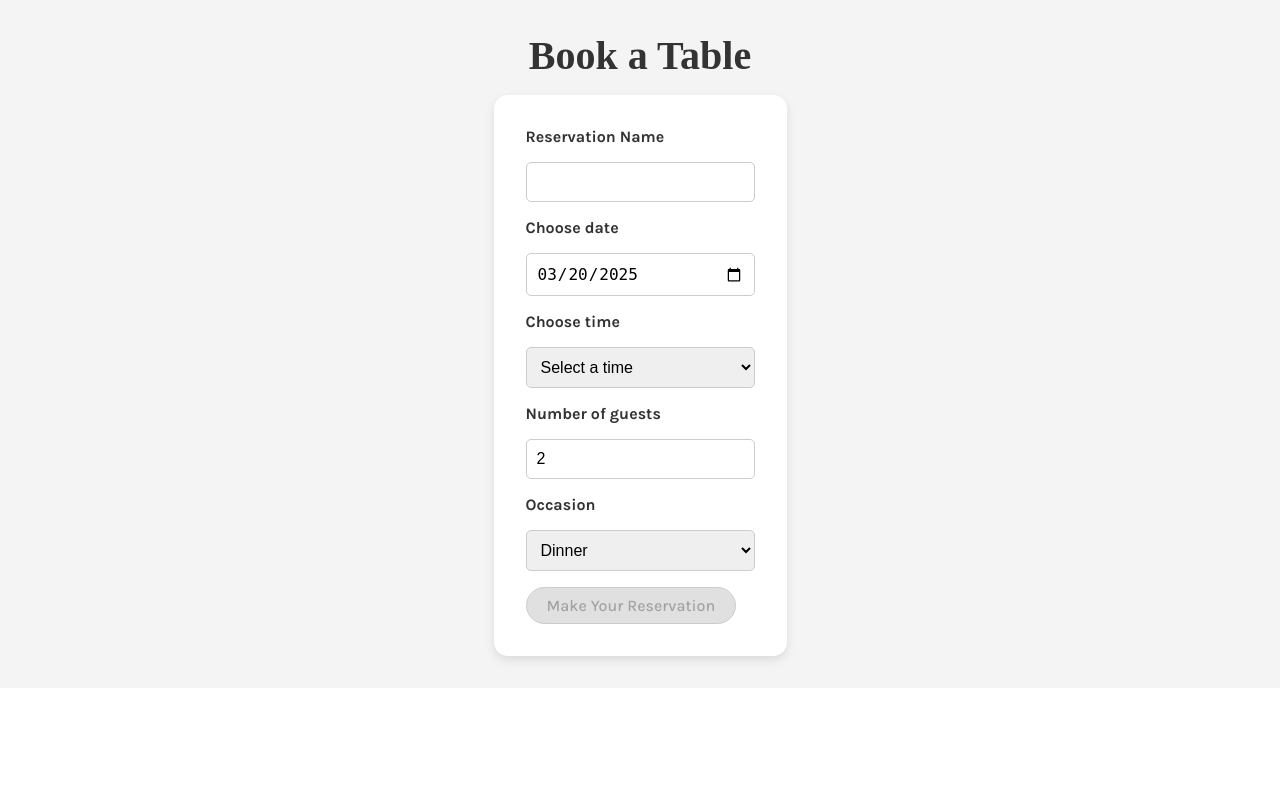
Form validation with Yup › affiche 'Your name is too short' si le nom est trop court
The image size is (1280, 800).
Entrez un nom trop court
Step 1. Type "d" into the field labelled "Reservation Name" → (640, 182), box [526, 162, 754, 202]
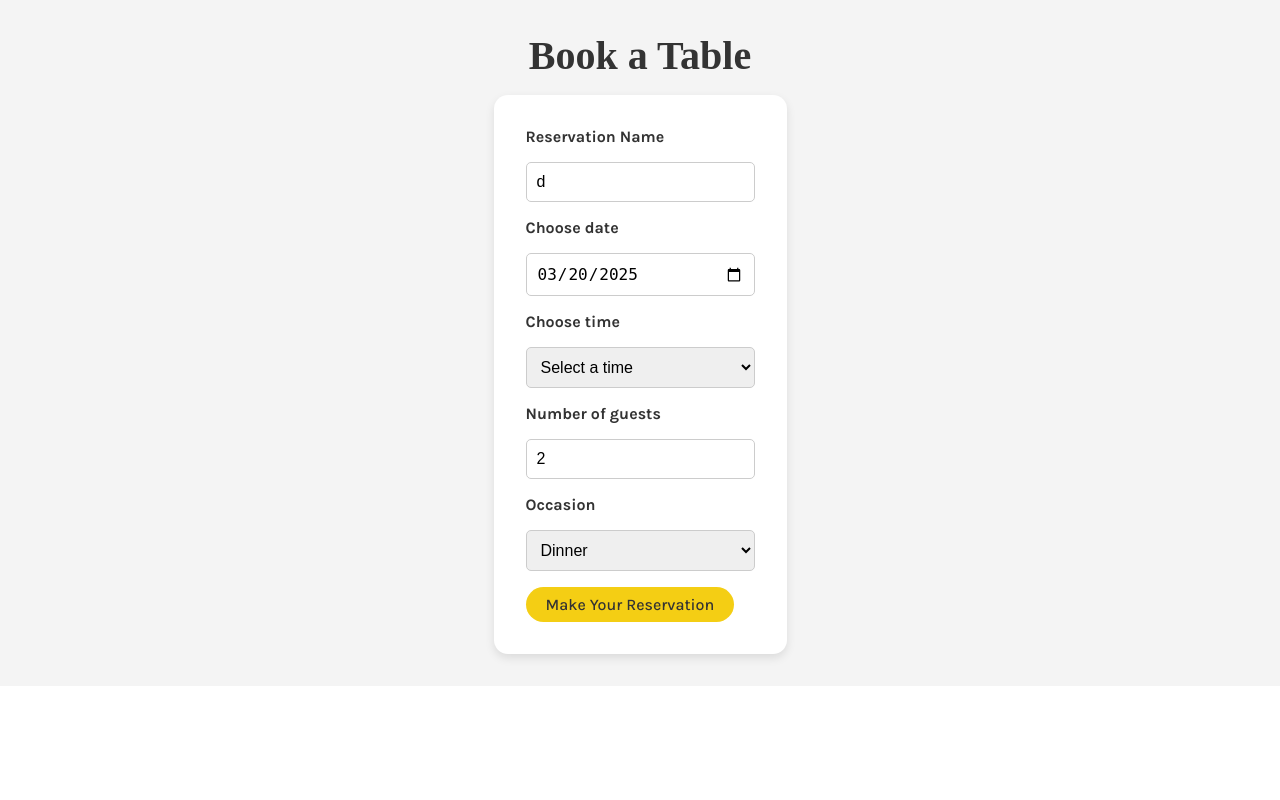
On déclenche le blur pour simuler la perte de focus
Step 2. Leave the field labelled "Reservation Name", box [526, 162, 754, 202]
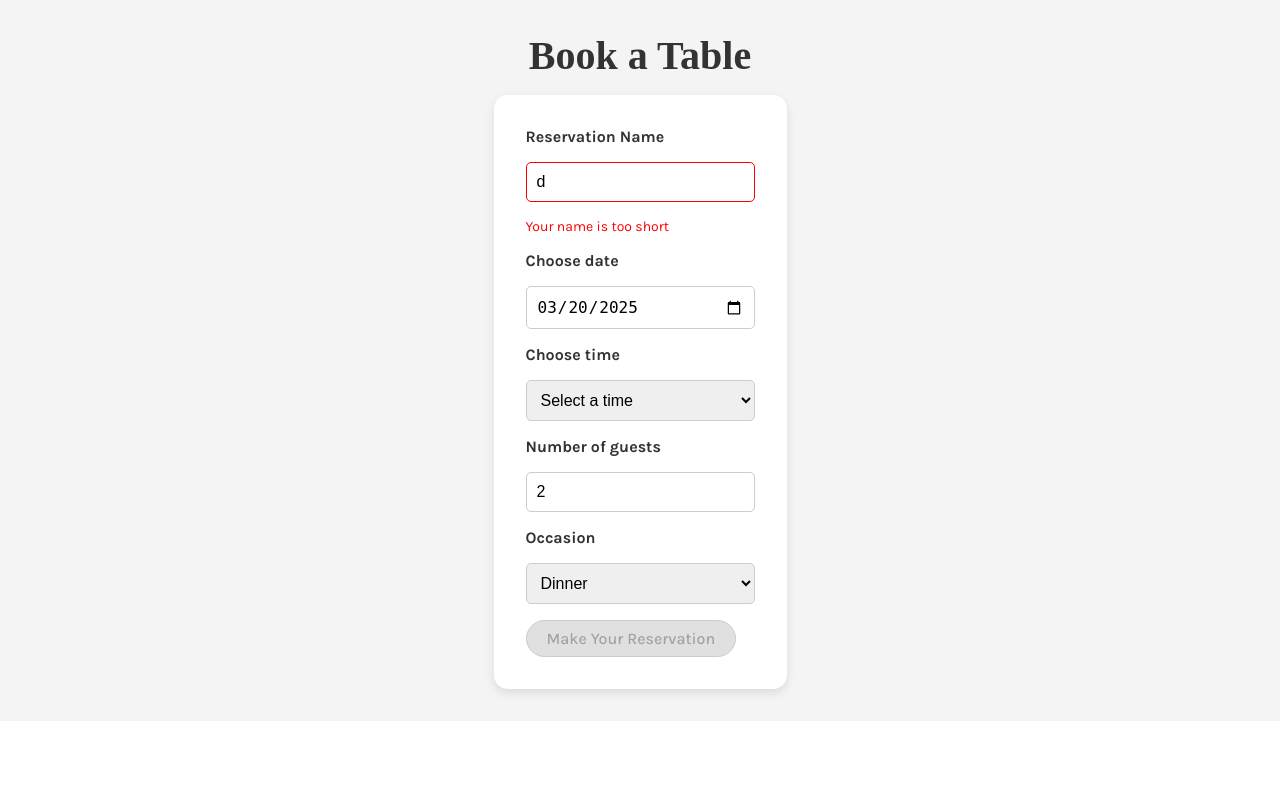
Result: the text "Your name is too short" is shown at [526, 218, 669, 235]
